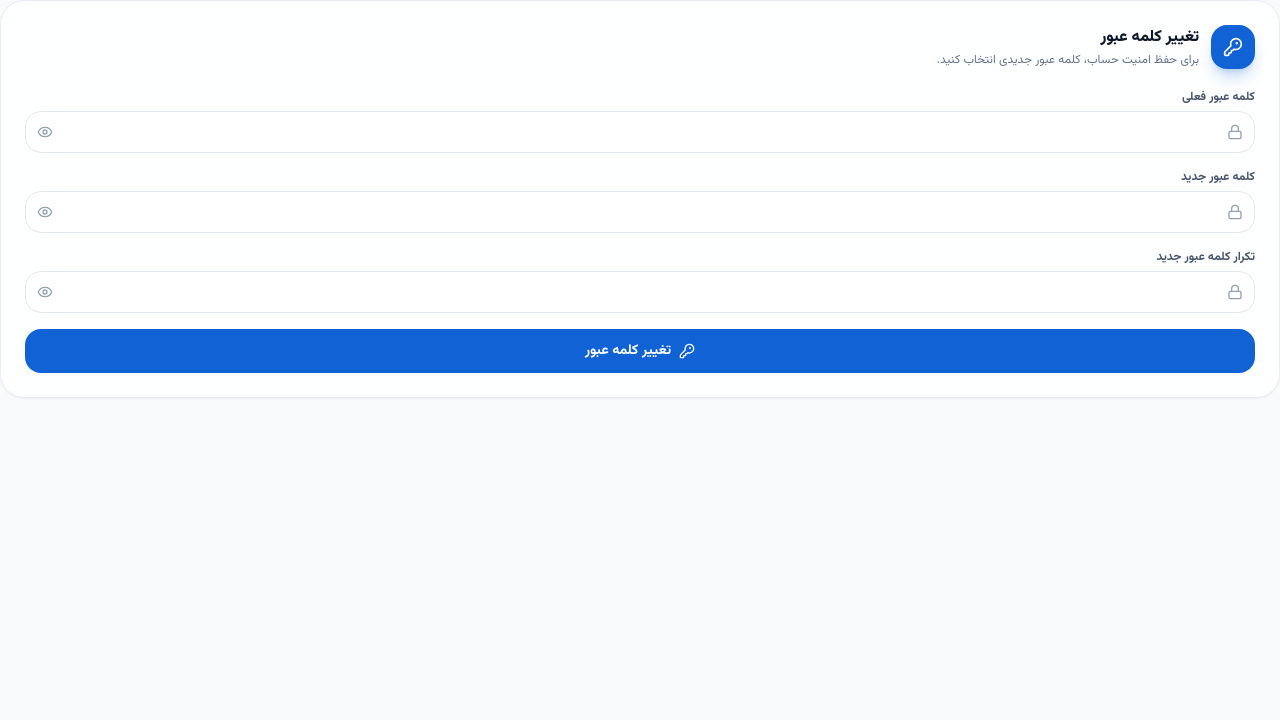
Test: [component] PasswordForm › changes the password successfully and clears the fields
Type "OldPass123!" into the password field below "کلمه عبور فعلی" at (640, 132), box [25,111,1255,153]
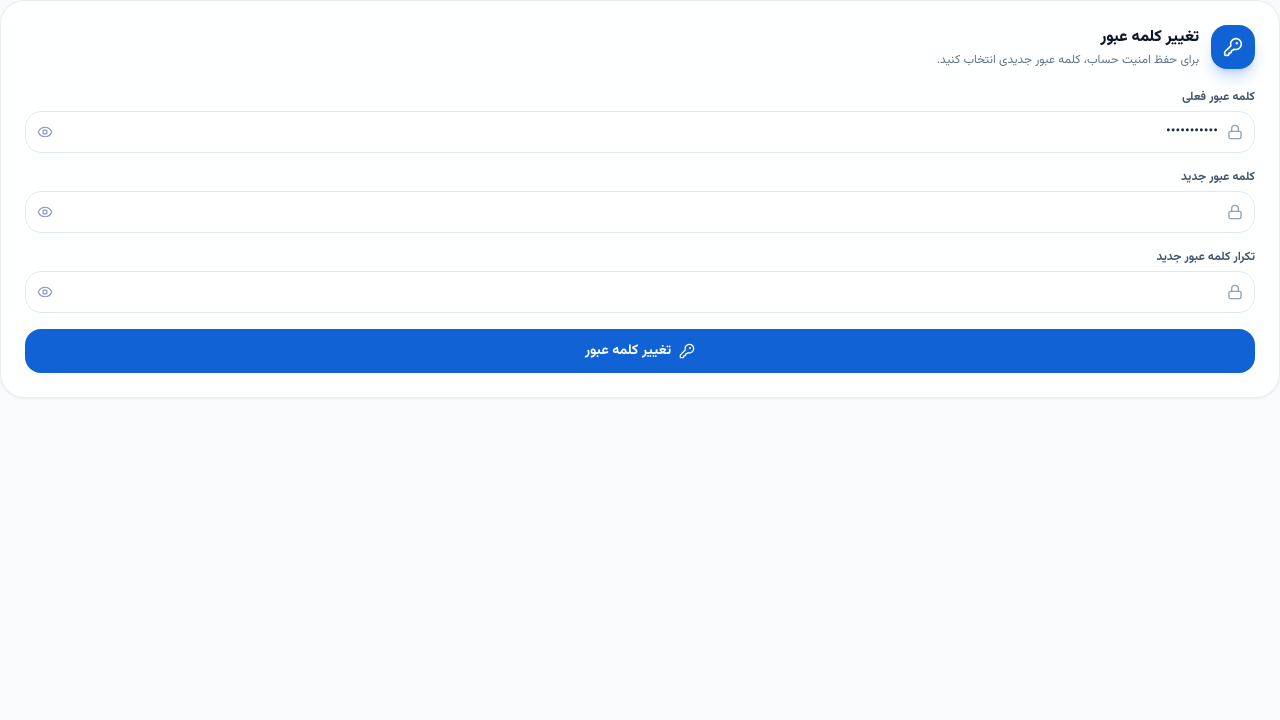
Type "NewPass123!" into the 2nd password field at (640, 212), box [25,191,1255,233]
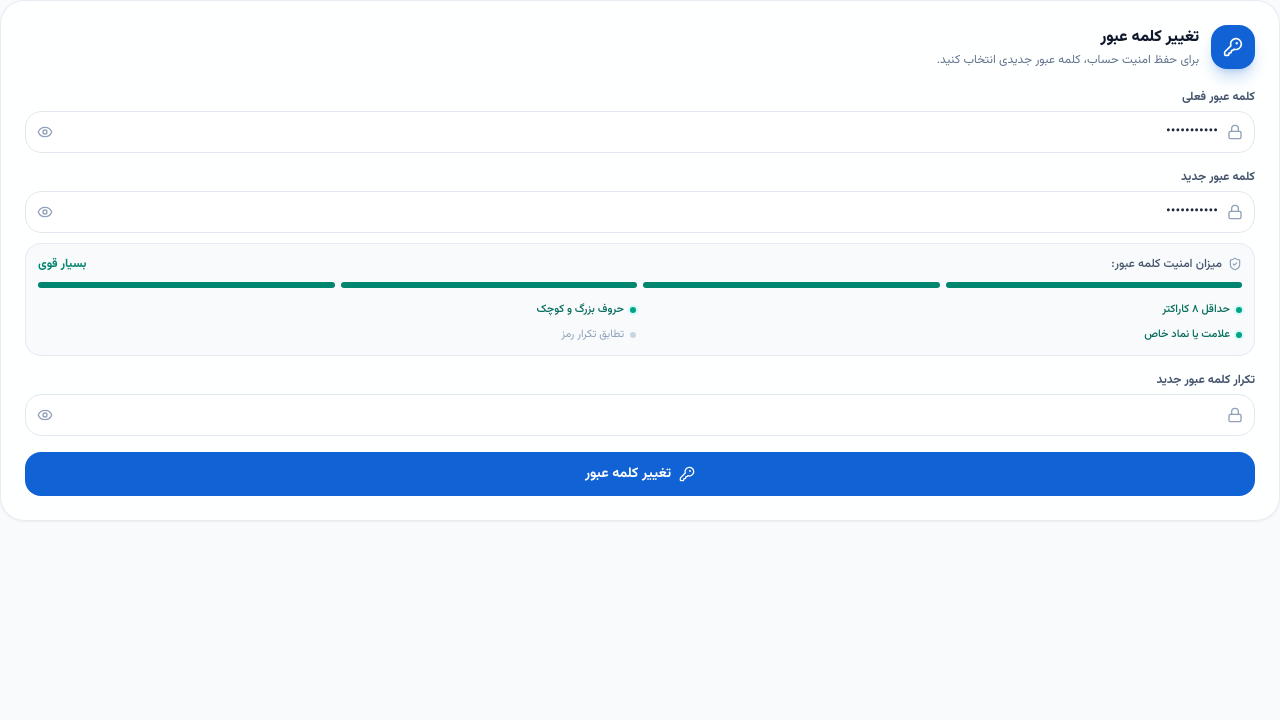
Type "NewPass123!" into the password field below "تکرار کلمه عبور جدید" at (640, 415), box [25,394,1255,436]
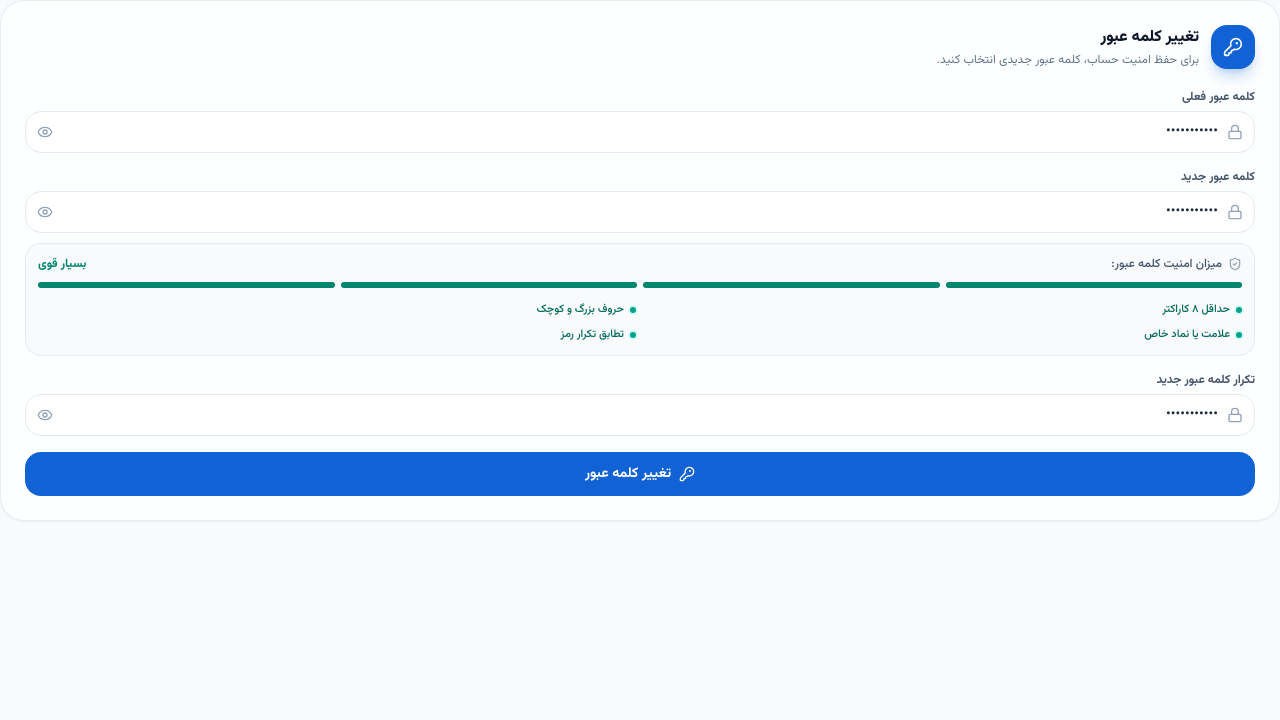
Click the button "تغییر کلمه عبور" at (640, 474), box [25,452,1255,496]
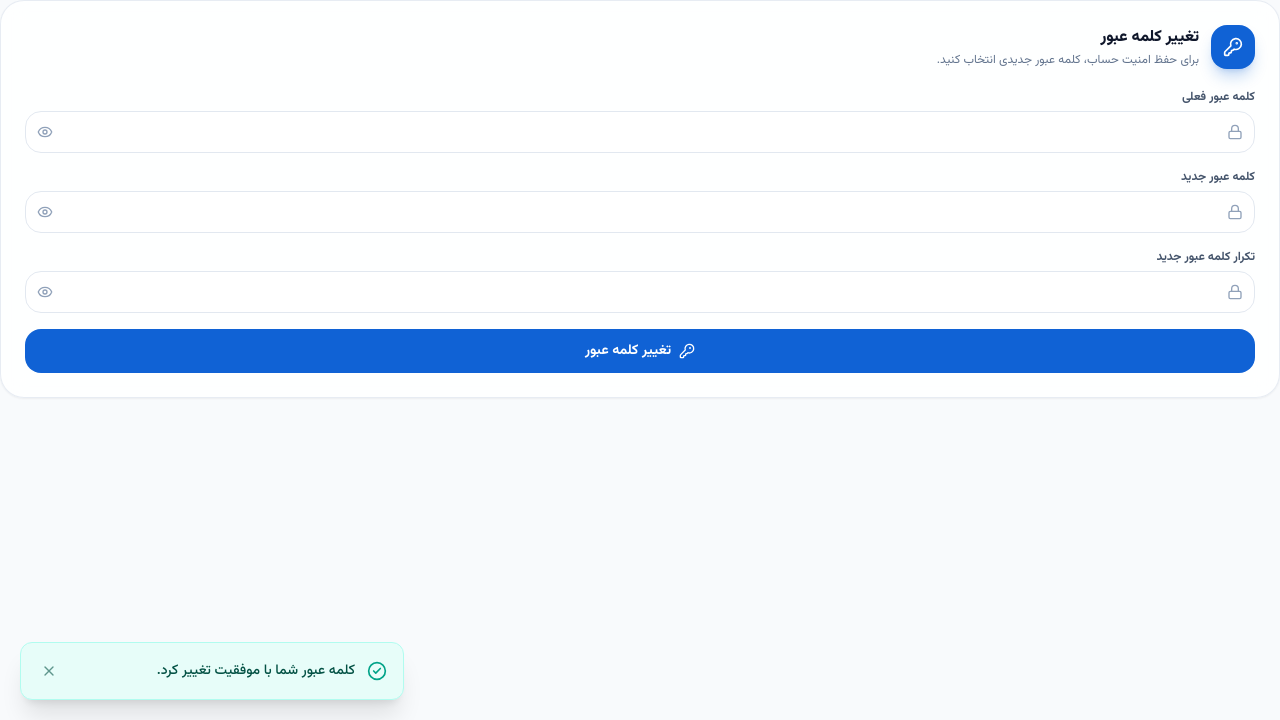
Now the text "کلمه عبور شما با موفقیت تغییر کرد." is shown, box [157,661,355,681]
